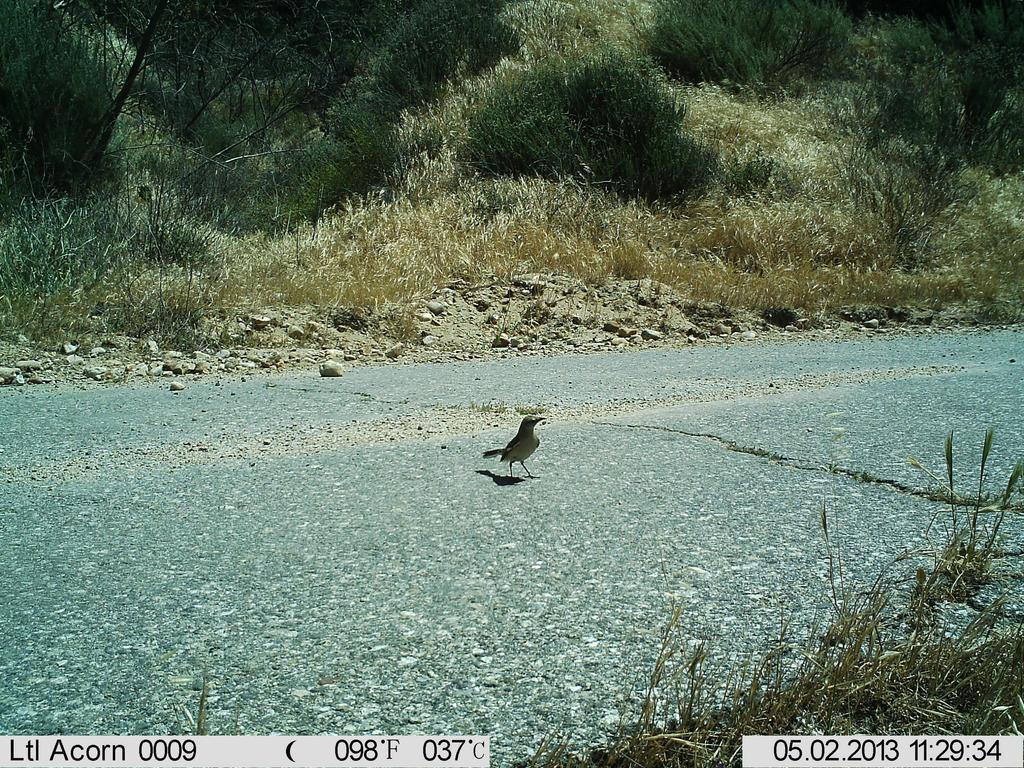bird: (475, 401, 596, 491)
